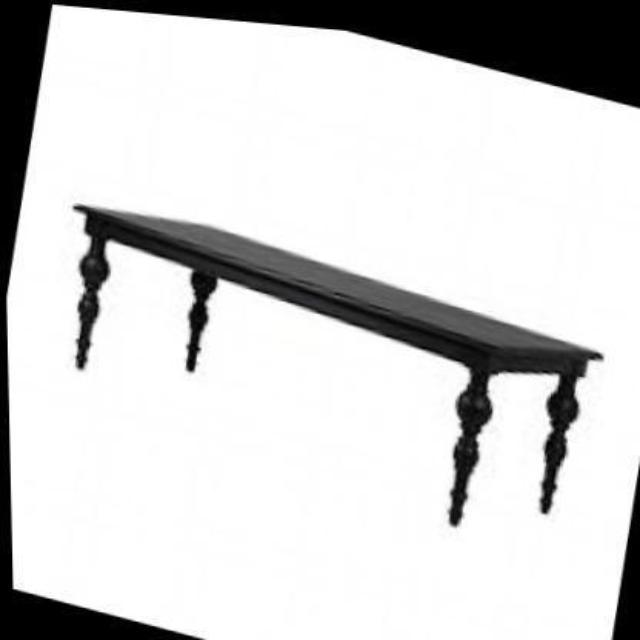table: (70, 207, 592, 530)
